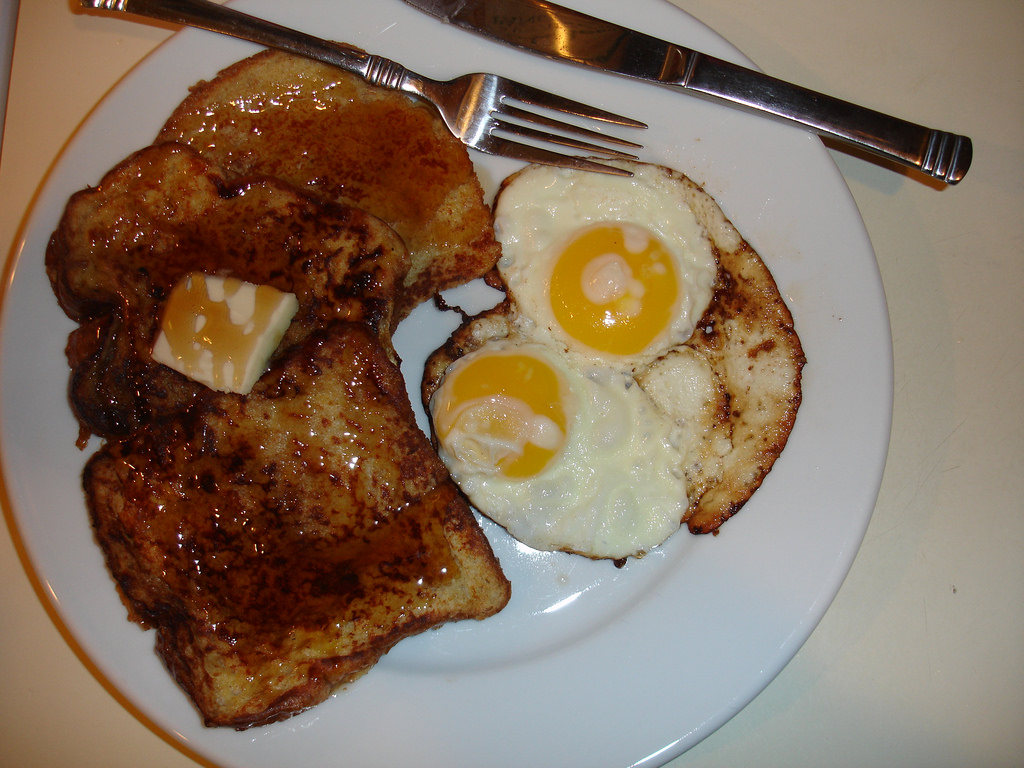fried egg: (424, 339, 707, 557), (486, 169, 746, 363)
slice of bread: (52, 342, 532, 734), (60, 58, 467, 374)
